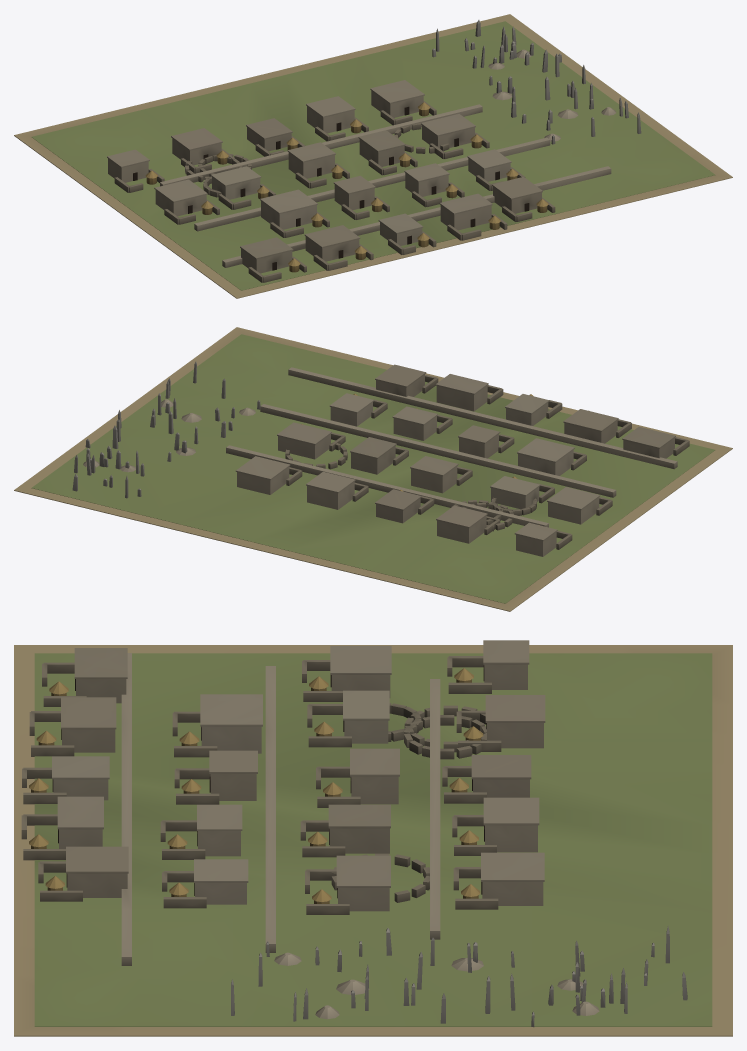
The model's file is beta-giyorgis.glb.
3 renders of one model, top to bottom at view 1: azimuth 30°, elevation 25°; view 2: azimuth 150°, elevation 25°; view 3: azimuth 270°, elevation 25°, orthographic. The views are drawn at different scales.
Parts seen in each view (by area): view 1: p0_terraces, p1_houses, p2_stelae; view 2: p0_terraces, p1_houses, p2_stelae; view 3: p0_terraces, p1_houses, p2_stelae.
Part boxes in pixels (x1,y1,x2,y2): p0_terraces: (14, 14, 732, 298); p1_houses: (107, 80, 555, 282); p2_stelae: (432, 20, 641, 144); p0_terraces: (14, 327, 732, 611); p1_houses: (235, 364, 689, 556); p2_stelae: (72, 361, 260, 498); p0_terraces: (14, 645, 732, 1036); p1_houses: (21, 640, 545, 914); p2_stelae: (231, 925, 687, 1027).
Size of the model in its own units: 90 by 4.15 by 70.
